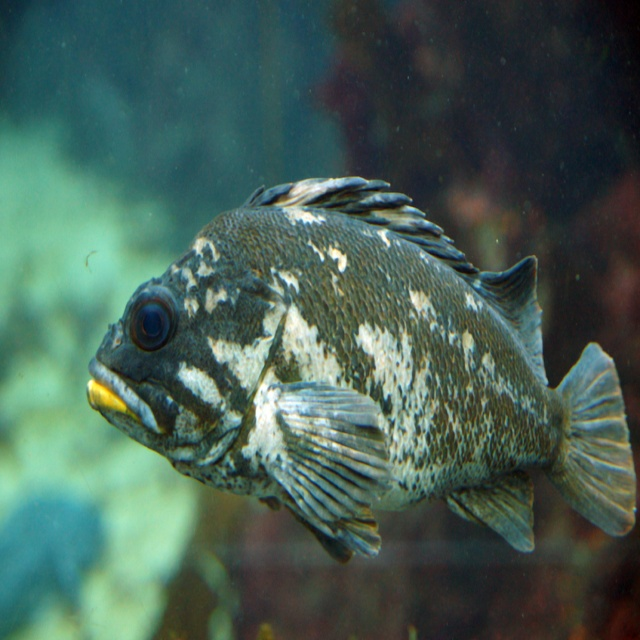Fish: (76, 164, 632, 589)
